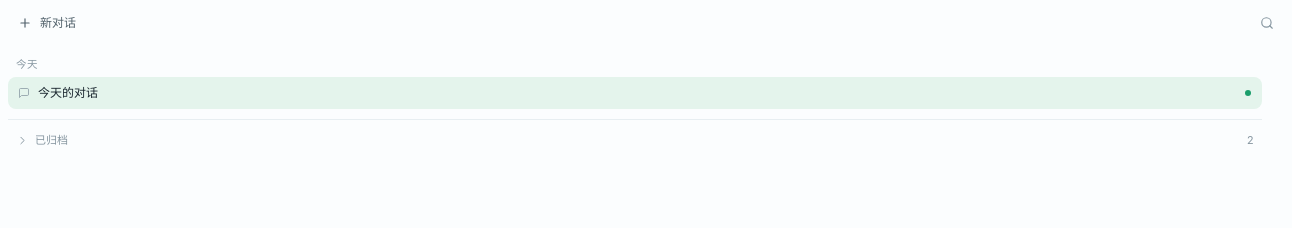
已归档抽屉 › 进列表即拉 aside.list；折叠态归档项不渲染；展开「已归档」后归档 sub + 随手评点都出现，且不冲主列表/不动 active/注册 byId
This screenshot has width=1292, height=228.
Expected: the text "这页配色" is not shown
Expected: the text "归档的旧对话" is not shown
Click the button "已归档 2".
click(52, 140)  # box [8,126,1262,154]
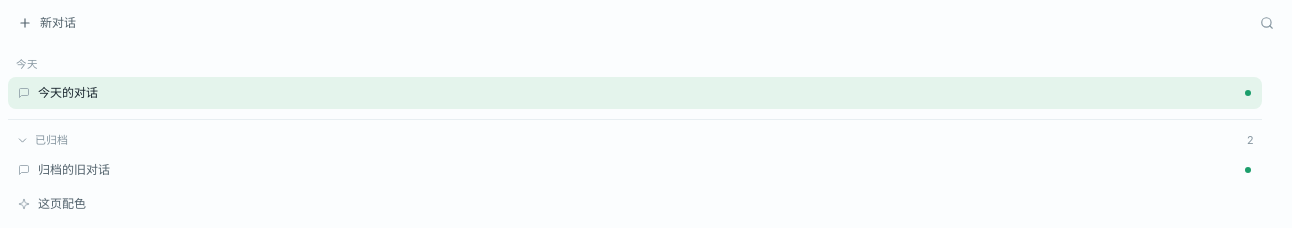
Result: the text "这页配色" is shown at [38,196,86,211]
Result: the text "归档的旧对话" is shown at [38,162,110,177]
